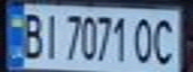0: (78, 11, 96, 61)
1: (109, 12, 130, 63)
7: (60, 10, 81, 61), (96, 12, 115, 61)
B: (18, 9, 45, 60)
C: (148, 14, 181, 66)
I: (39, 9, 63, 61)
O: (130, 14, 157, 65)
